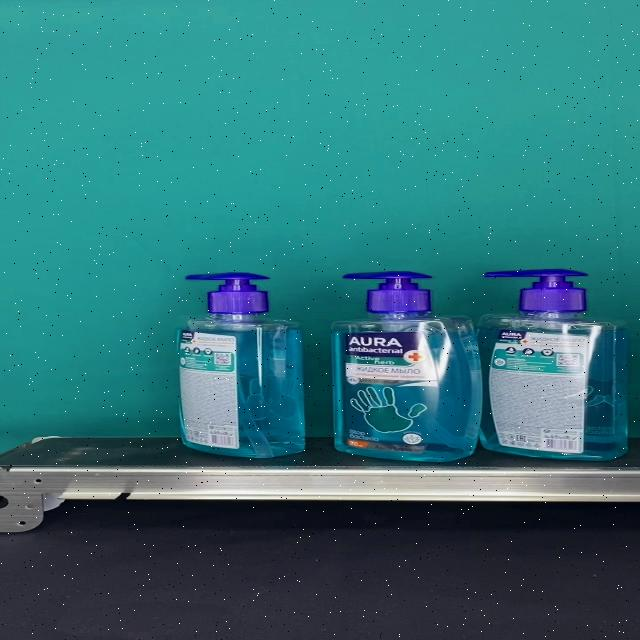Bottle: (329, 271, 483, 462), (477, 269, 627, 462), (174, 272, 306, 458)
Cap: (484, 269, 588, 312), (342, 271, 432, 313), (184, 272, 270, 313)
